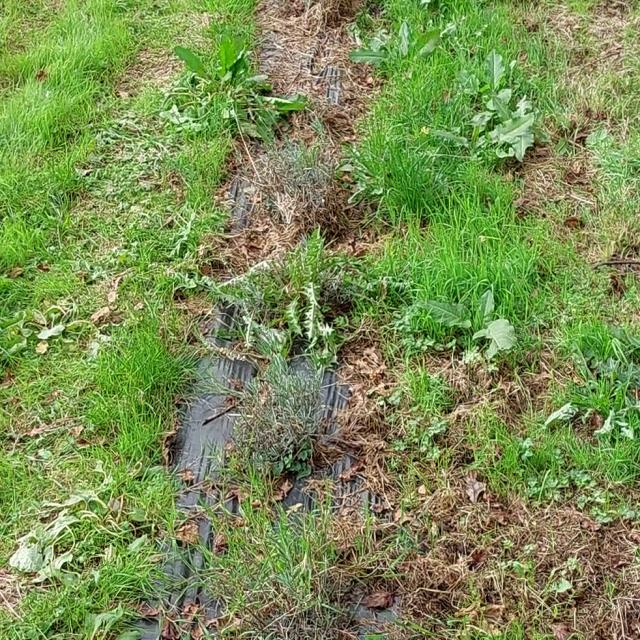organic waste: (164, 22, 285, 140), (13, 483, 129, 598), (424, 276, 526, 373), (336, 5, 450, 90), (432, 105, 550, 161), (19, 291, 106, 356), (456, 51, 539, 114)
